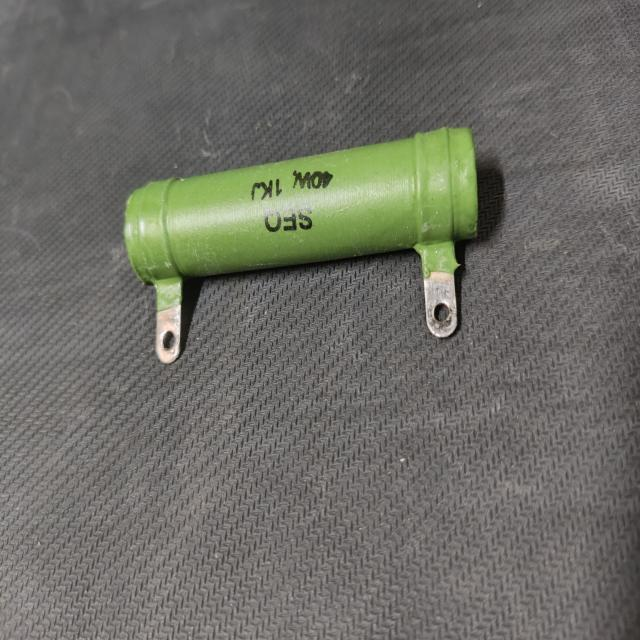resistor: (119, 119, 484, 374)
